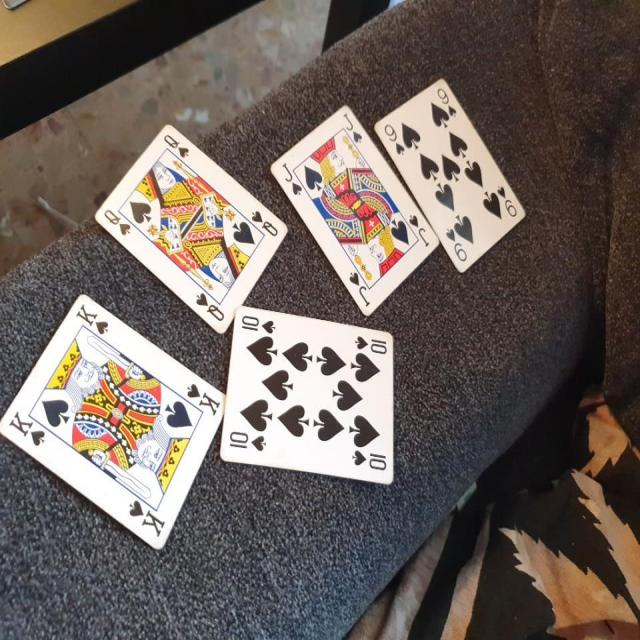10 Spades: (218, 304, 395, 493)
9 Spades: (362, 68, 531, 272)
J Spades: (263, 94, 442, 321)
K Spades: (5, 290, 232, 564)
Q Spades: (97, 118, 290, 342)
